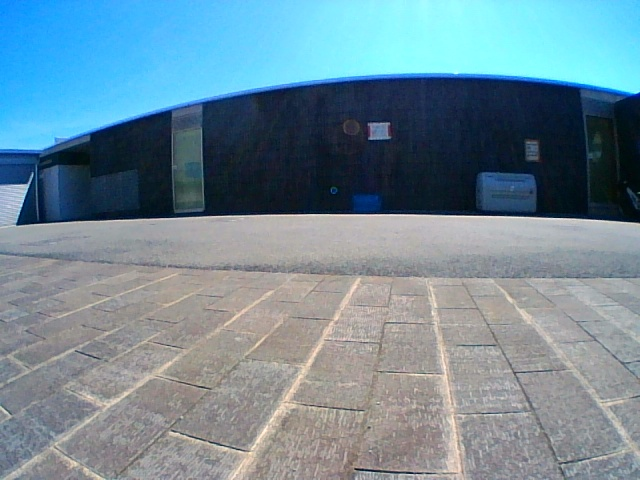blue_box: (355, 195, 378, 212)
